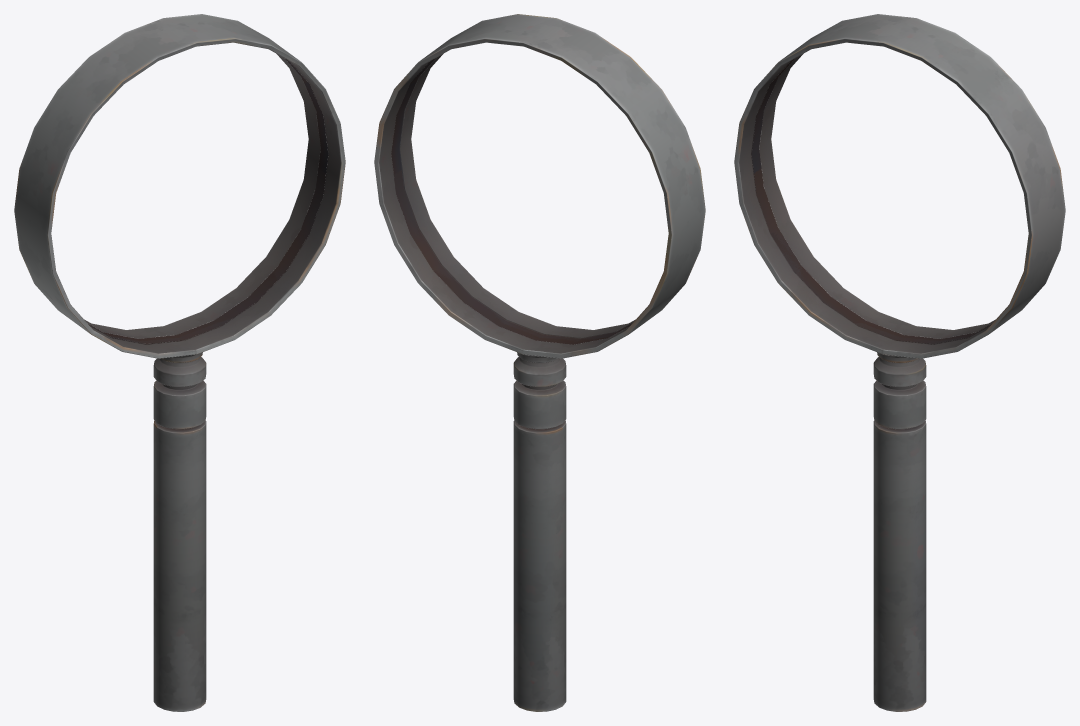
File: magnifyingGlass.fbx
3 views of the same model, side by side, from view 1: azimuth 30°, elevation 25°; view 2: azimuth 150°, elevation 25°; view 3: azimuth 330°, elevation 25° (orthographic).
Parts seen in each view (by area): view 1: magnifying_glass_01_lod0; view 2: magnifying_glass_01_lod0; view 3: magnifying_glass_01_lod0.
Part boxes in pixels (bbox=[...]): magnifying_glass_01_lod0: bbox=[14, 14, 345, 711]; magnifying_glass_01_lod0: bbox=[374, 14, 705, 711]; magnifying_glass_01_lod0: bbox=[734, 14, 1065, 711].
Bounding box in the file's own units: 13.01 × 27.96 × 2.56.
